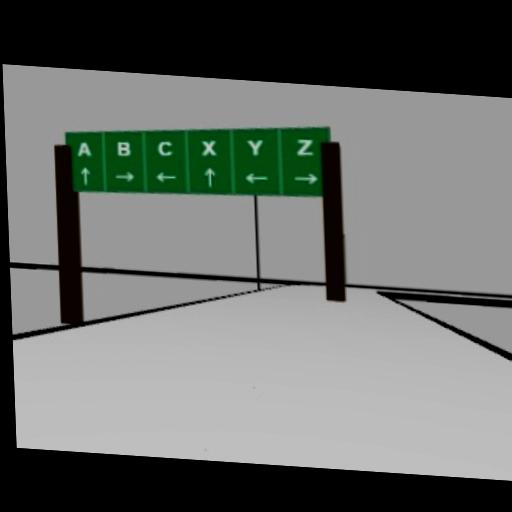A: (76, 141, 91, 157)
B: (116, 140, 130, 156)
C: (157, 140, 173, 156)
Left: (243, 172, 269, 185), (153, 171, 177, 184)
Right: (292, 172, 318, 184), (113, 170, 136, 182)
Straight: (203, 165, 215, 186), (78, 166, 90, 185)
X: (200, 138, 216, 155)
Y: (245, 137, 262, 156)
Z: (294, 135, 313, 157)
